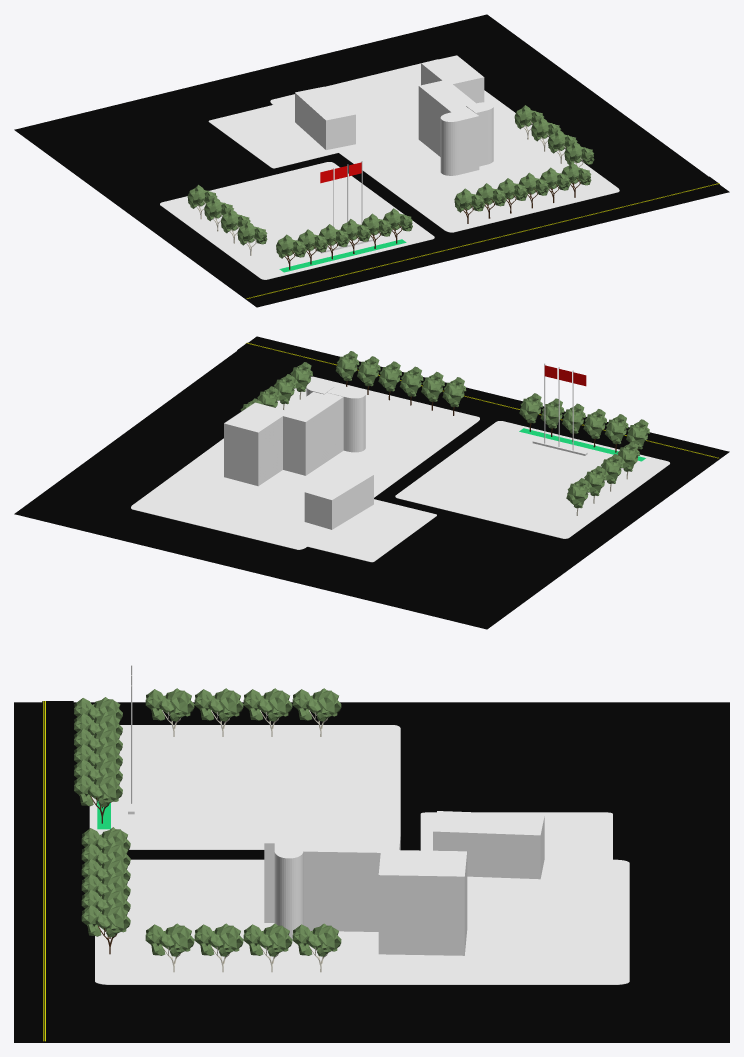
File: floor3zip.glb
3 renders of one model, top to bottom at view 1: azimuth 30°, elevation 25°; view 2: azimuth 150°, elevation 25°; view 3: azimuth 270°, elevation 25°, orthographic. The views are drawn at different scales.
Visible parts, largest first — view 1: 底部平面.002, 平面.004, 平面.001, B座办公楼.002, 平面, 平面.005, Trunk, Trunk.002, C座办公楼.002, Trunk.001, Trunk.003, 立方体; view 2: 底部平面.002, 平面.004, 平面.001, B座办公楼.002, 平面.005, C座办公楼.002, 平面, Trunk.002, Trunk, Trunk.001, Trunk.003, 立方体; view 3: 底部平面.002, 平面.004, 平面.001, B座办公楼.002, 平面, C座办公楼.002, Trunk.003, Trunk.001, Trunk.002, Trunk, 平面.005, 平面.003.
Boxes of the visible parts, x1,y1,x2,y2 form: 底部平面.002: (14, 14, 729, 307); 平面.004: (270, 59, 619, 232); 平面.001: (160, 162, 434, 279); B座办公楼.002: (418, 55, 493, 175); 平面: (237, 176, 719, 299); 平面.005: (208, 102, 347, 168); Trunk: (276, 208, 412, 269); Trunk.002: (454, 162, 591, 223); C座办公楼.002: (295, 86, 355, 149); Trunk.001: (187, 184, 267, 255); Trunk.003: (514, 105, 594, 167); 立方体: (279, 239, 406, 272); 底部平面.002: (14, 336, 729, 629); 平面.004: (131, 376, 479, 549); 平面.001: (395, 421, 669, 538); B座办公楼.002: (224, 383, 365, 486); 平面.005: (296, 499, 436, 562); C座办公楼.002: (304, 467, 373, 529); 平面: (237, 342, 719, 465); Trunk.002: (335, 351, 466, 415); Trunk: (519, 393, 649, 456); Trunk.001: (566, 441, 639, 515); Trunk.003: (240, 362, 312, 411); 立方体: (519, 428, 645, 461); 底部平面.002: (14, 702, 729, 1042); 平面.004: (95, 859, 629, 984); 平面.001: (89, 725, 400, 849); B座办公楼.002: (264, 820, 467, 955); 平面: (42, 701, 73, 1041); C座办公楼.002: (433, 811, 544, 879); Trunk.003: (145, 923, 341, 972); Trunk.001: (145, 688, 341, 736); Trunk.002: (81, 827, 130, 954); Trunk: (74, 697, 122, 823); 平面.005: (420, 812, 612, 868); 平面.003: (43, 701, 44, 1041).
Size of the model in its own units: 180 by 31.01 by 160.
13 materials, 1 textured.
